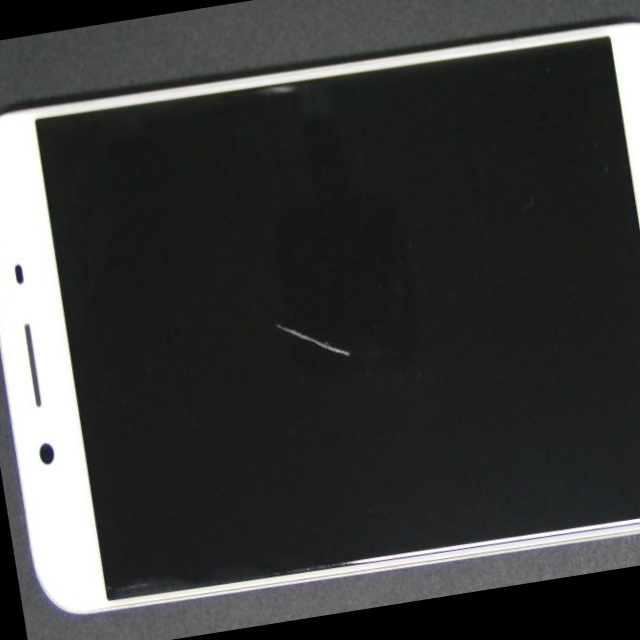scratch: (199, 186, 534, 521)
